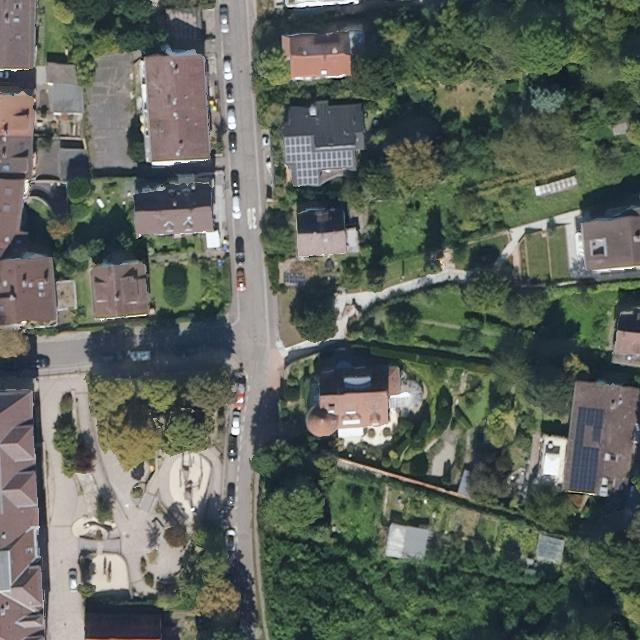PV: (281, 134, 358, 188), (566, 405, 607, 496)
